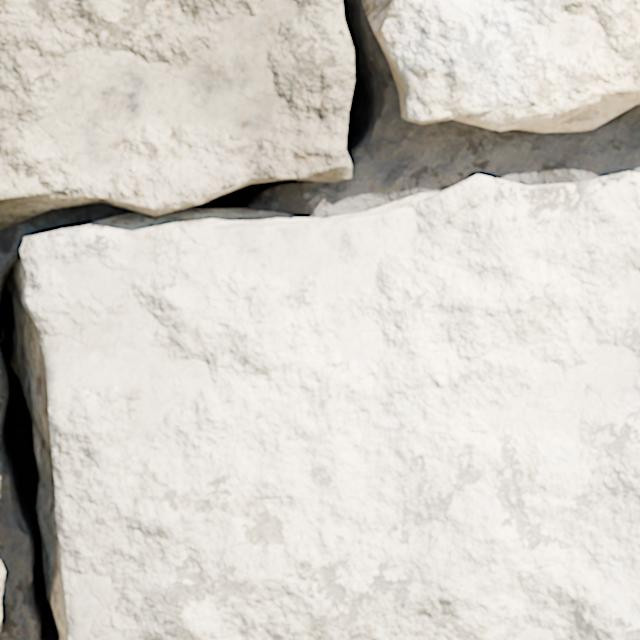crack: (0, 0, 639, 639), (362, 0, 639, 132), (0, 560, 4, 630)
